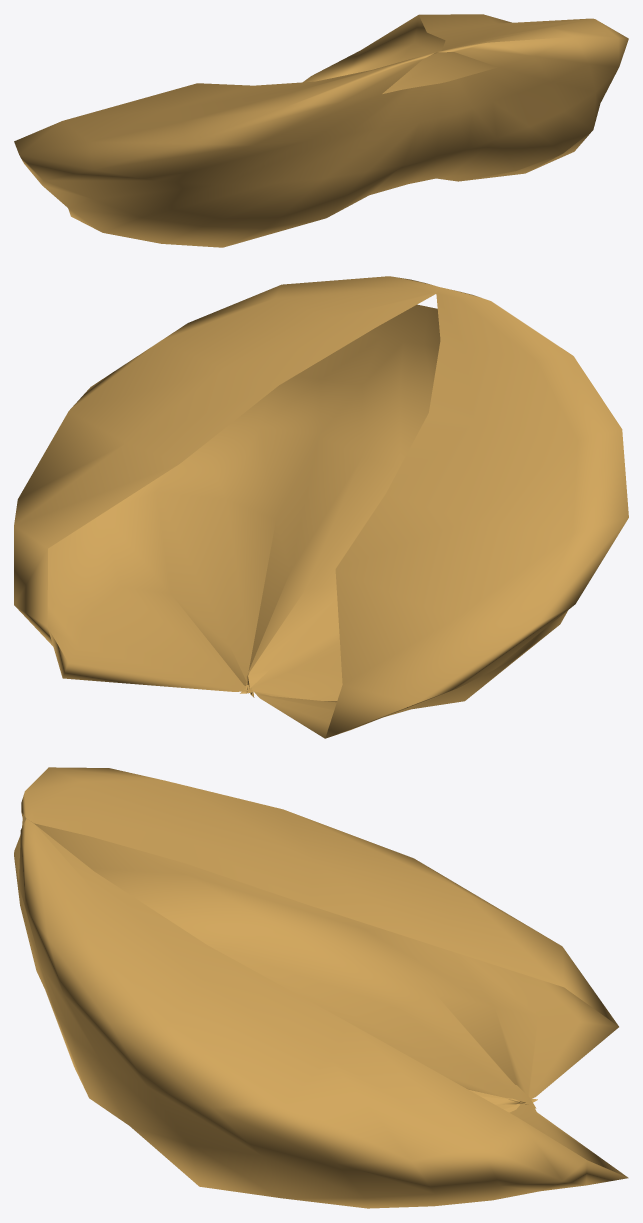
The model's file is abdomen_tergum.obj.
3 views of the same model, one above another, from view 1: azimuth 30°, elevation 25°; view 2: azimuth 150°, elevation 25°; view 3: azimuth 270°, elevation 25° (orthographic). The views are drawn at different scales.
Size of the model in its own units: 0.0631 by 0.0289 by 0.0521.
